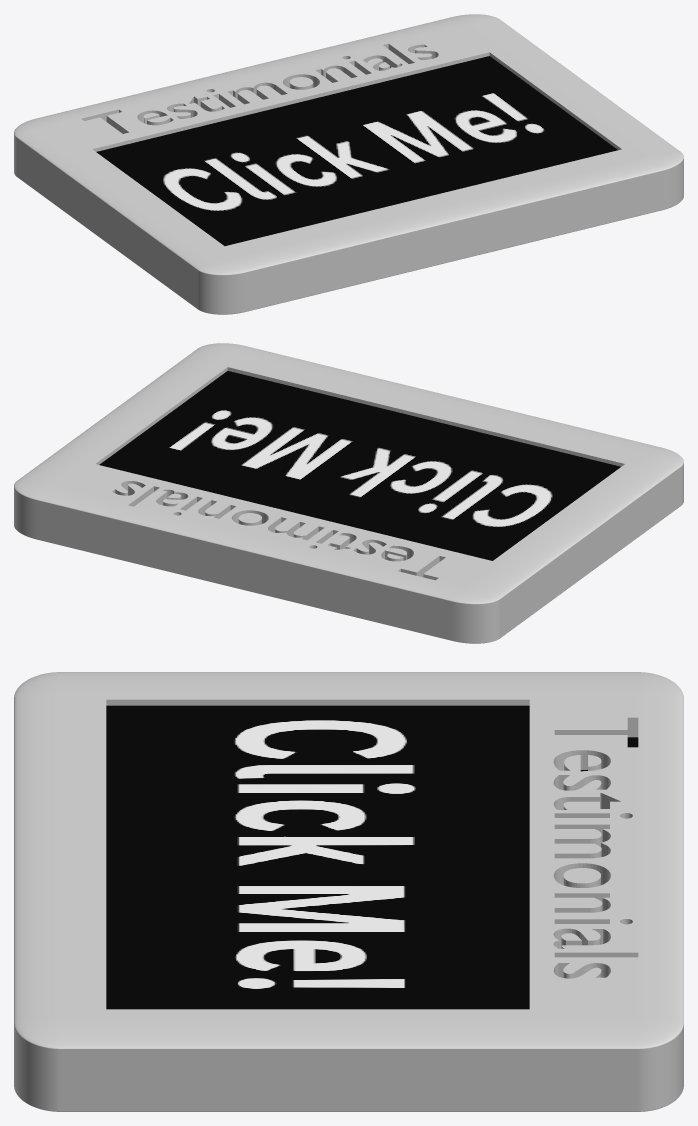
The model's file is Testimonial.glb.
The picture shows the model from 3 angles, top to bottom: view 1: azimuth 30°, elevation 25°; view 2: azimuth 150°, elevation 25°; view 3: azimuth 270°, elevation 25°; orthographic projection. The views are drawn at different scales.
Parts seen in each view (by area): view 1: Cube.001; view 2: Cube.001; view 3: Cube.001.
Part boxes in pixels (x1=…): Cube.001: x1=14, y1=14, x2=683, y2=314; Cube.001: x1=14, y1=343, x2=683, y2=643; Cube.001: x1=14, y1=672, x2=683, y2=1111.
Bounding box in the file's own units: 3.91 × 0.3511 × 2.94.
Materials: 3 (1 with a texture image).
